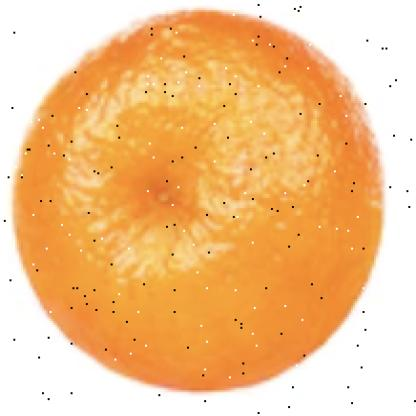fresh: (12, 13, 383, 387)
